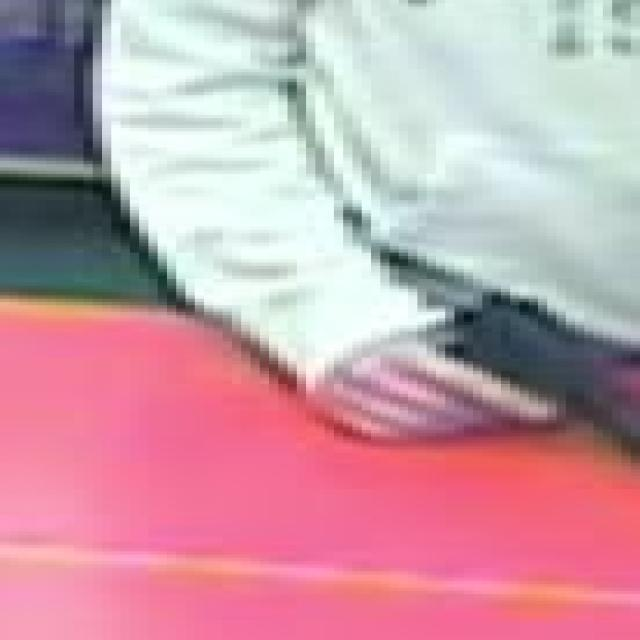Guns: (389, 282, 640, 489)
